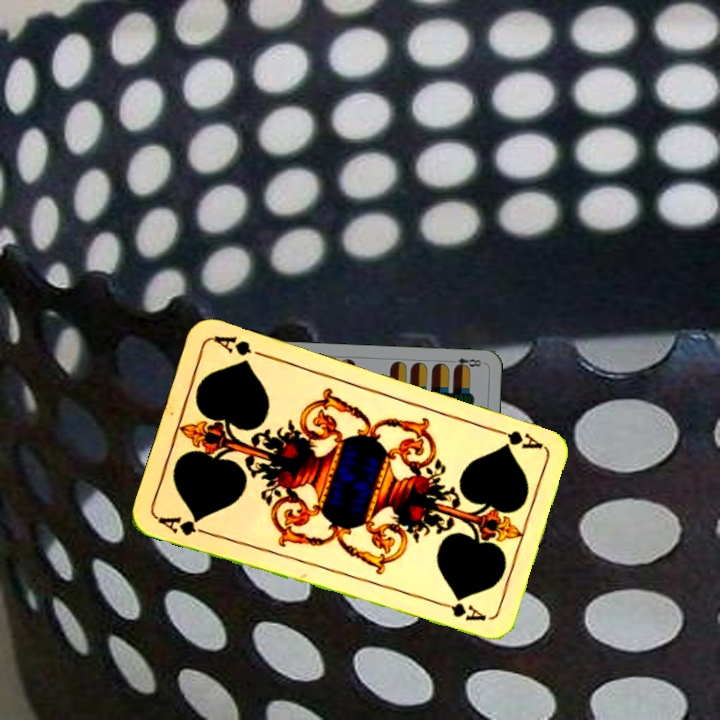E8: (445, 354, 484, 371)
GA: (487, 424, 545, 452), (154, 512, 212, 539)
